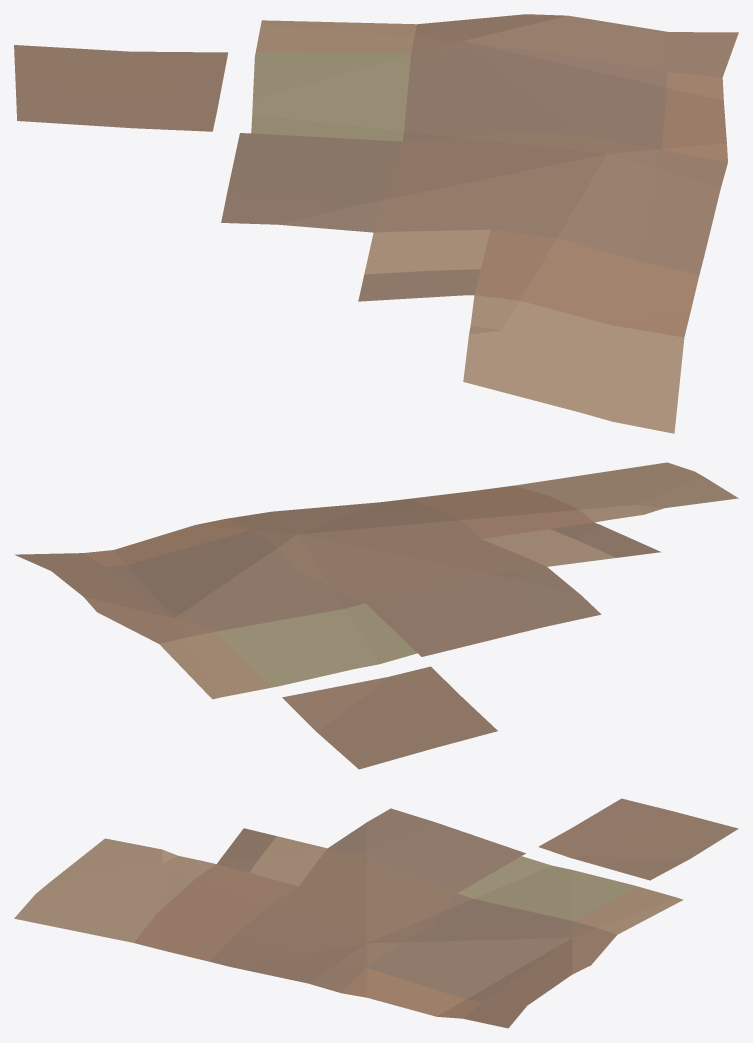
File: farm_-1_-2_soil.glb
The picture shows the model from 3 angles, top to bottom: view 1: azimuth 30°, elevation 25°; view 2: azimuth 150°, elevation 25°; view 3: azimuth 270°, elevation 25°; orthographic projection. The views are drawn at different scales.
Parts seen in each view (by area): view 1: geometry_0; view 2: geometry_0; view 3: geometry_0.
Boxes of the visible parts, left/top/right/bottom form: geometry_0: left=14, top=14, right=738, bottom=433; geometry_0: left=14, top=462, right=738, bottom=769; geometry_0: left=14, top=798, right=738, bottom=1028.
Size of the model in its own units: 206 by 19.45 by 283.
